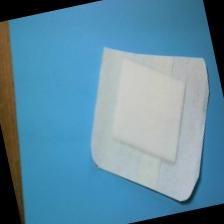Cut: (68, 24, 224, 224)
